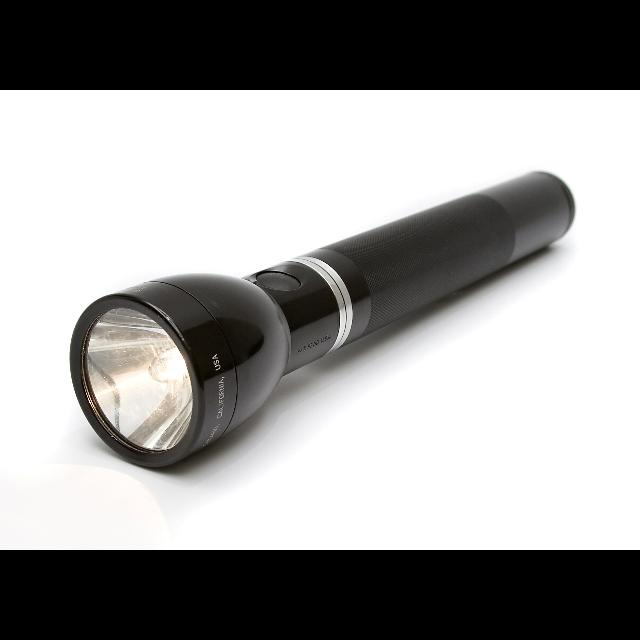Flashlight: (60, 164, 580, 478)
